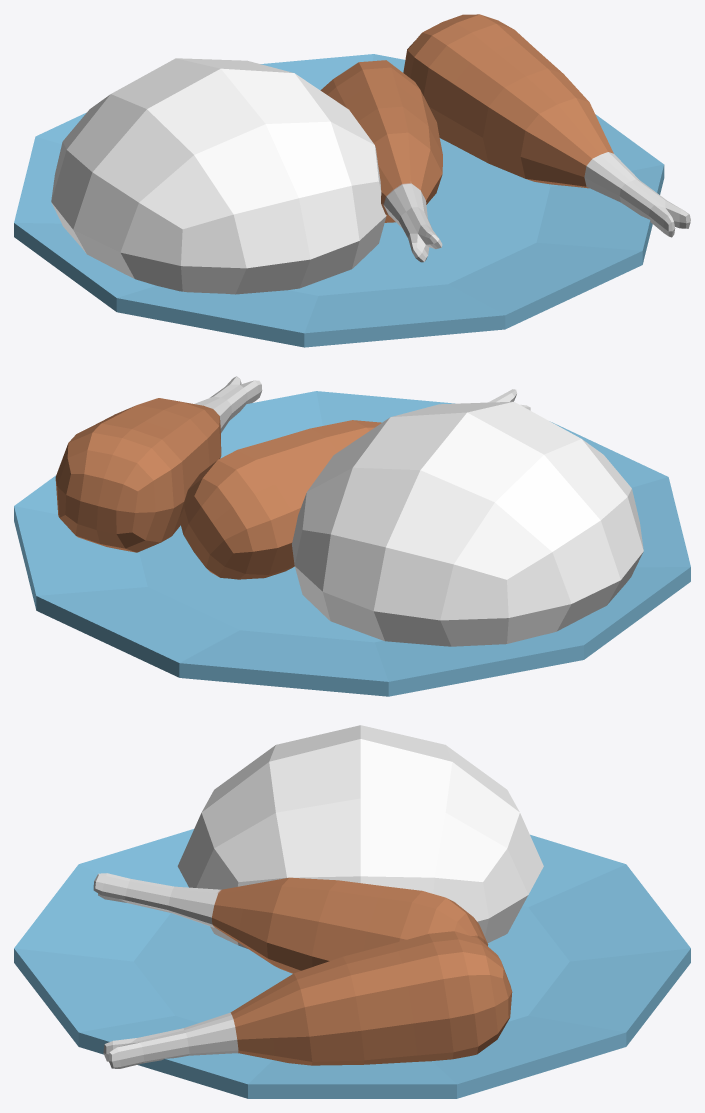
Rendered from ricechickenmeal.glb.
The picture shows the model from 3 angles, top to bottom: view 1: azimuth 30°, elevation 25°; view 2: azimuth 150°, elevation 25°; view 3: azimuth 270°, elevation 25°; orthographic projection. The views are drawn at different scales.
Parts seen in each view (by area): view 1: rice, Cylinder, Chicken; view 2: rice, Cylinder, Chicken; view 3: Cylinder, Chicken, rice.
Part boxes in pixels (x1=…): rice: x1=51, y1=58, x2=386, y2=294; Cylinder: x1=14, y1=54, x2=664, y2=347; Chicken: x1=320, y1=14, x2=690, y2=262; rice: x1=292, y1=401, x2=643, y2=646; Cylinder: x1=14, y1=391, x2=690, y2=696; Chicken: x1=55, y1=376, x2=530, y2=579; Cylinder: x1=14, y1=829, x2=690, y2=1098; Chicken: x1=93, y1=873, x2=512, y2=1068; rice: x1=177, y1=725, x2=543, y2=948.
Bounding box in the file's own units: 0.2566 × 0.0819 × 0.2698.
Materials: 4 (2 with a texture image).
